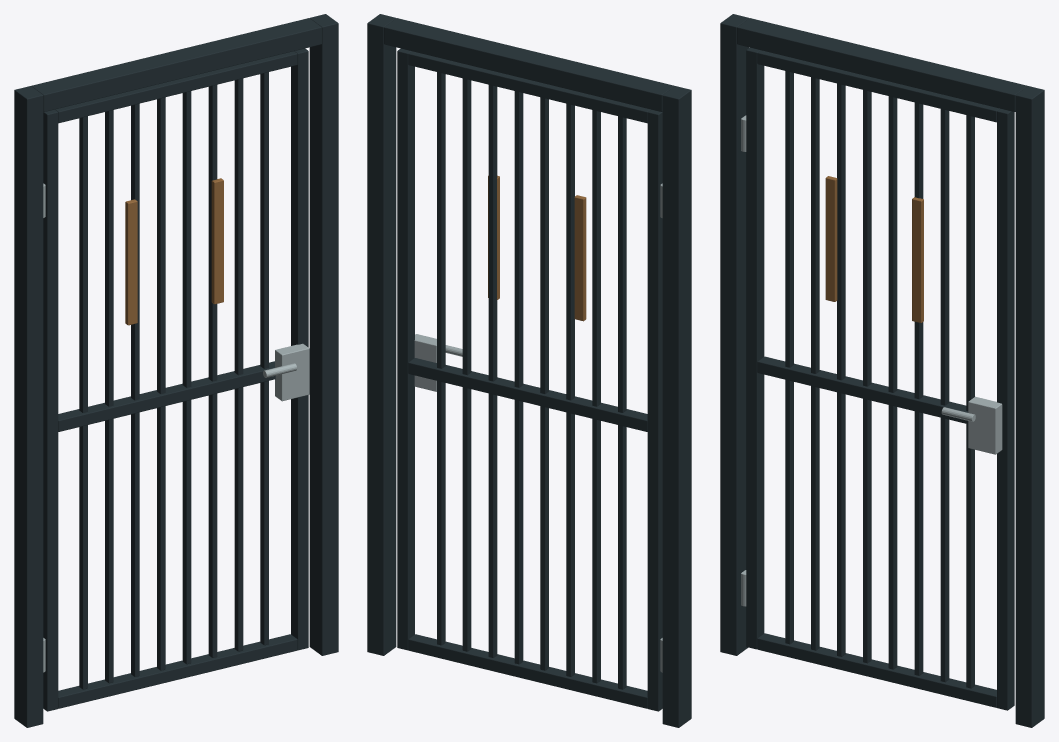
The picture shows the model from 3 angles, left to right: view 1: azimuth 30°, elevation 25°; view 2: azimuth 150°, elevation 25°; view 3: azimuth 330°, elevation 25°; orthographic projection.
Parts seen in each view (by area): view 1: FRAME_Jamb, FRAME_Jamb.001, LEAF_Stile.001, LEAF_Stile, FRAME_Header, LEAF_VerticalBar_07, LEAF_VerticalBar_05, LEAF_VerticalBar_04, LEAF_VerticalBar_01, LEAF_VerticalBar_02, LEAF_VerticalBar_08, LEAF_VerticalBar_06 (+7 smaller); view 2: FRAME_Jamb, FRAME_Jamb.001, LEAF_Stile.001, LEAF_Stile, FRAME_Header, LEAF_VerticalBar_07, LEAF_VerticalBar_05, LEAF_VerticalBar_06, LEAF_VerticalBar_04, LEAF_VerticalBar_03, LEAF_VerticalBar_01, LEAF_VerticalBar_02 (+6 smaller); view 3: FRAME_Jamb.001, FRAME_Jamb, LEAF_Stile, LEAF_Stile.001, FRAME_Header, LEAF_VerticalBar_05, LEAF_VerticalBar_07, LEAF_VerticalBar_01, LEAF_VerticalBar_02, LEAF_VerticalBar_03, LEAF_VerticalBar_04, LEAF_VerticalBar_08 (+7 smaller).
Boxes of the visible parts, x1=… form: FRAME_Jamb: x1=14, y1=86, x2=43, y2=727; FRAME_Jamb.001: x1=309, y1=14, x2=338, y2=655; LEAF_Stile.001: x1=291, y1=48, x2=308, y2=650; LEAF_Stile: x1=43, y1=109, x2=58, y2=711; FRAME_Header: x1=31, y1=18, x2=321, y2=111; LEAF_VerticalBar_07: x1=234, y1=78, x2=243, y2=651; LEAF_VerticalBar_05: x1=182, y1=91, x2=191, y2=664; LEAF_VerticalBar_04: x1=157, y1=97, x2=165, y2=670; LEAF_VerticalBar_01: x1=79, y1=116, x2=87, y2=689; LEAF_VerticalBar_02: x1=105, y1=110, x2=113, y2=683; LEAF_VerticalBar_08: x1=260, y1=72, x2=268, y2=645; LEAF_VerticalBar_06: x1=208, y1=85, x2=217, y2=657; FRAME_Jamb: x1=662, y1=86, x2=691, y2=727; FRAME_Jamb.001: x1=367, y1=14, x2=396, y2=655; LEAF_Stile.001: x1=397, y1=48, x2=414, y2=650; LEAF_Stile: x1=647, y1=109, x2=662, y2=711; FRAME_Header: x1=384, y1=18, x2=674, y2=111; LEAF_VerticalBar_07: x1=462, y1=78, x2=471, y2=651; LEAF_VerticalBar_05: x1=514, y1=91, x2=523, y2=664; LEAF_VerticalBar_06: x1=488, y1=85, x2=497, y2=657; LEAF_VerticalBar_04: x1=540, y1=97, x2=548, y2=670; LEAF_VerticalBar_03: x1=566, y1=103, x2=574, y2=676; LEAF_VerticalBar_01: x1=618, y1=116, x2=626, y2=689; LEAF_VerticalBar_02: x1=592, y1=110, x2=600, y2=683; FRAME_Jamb.001: x1=1015, y1=86, x2=1044, y2=727; FRAME_Jamb: x1=720, y1=14, x2=749, y2=655; LEAF_Stile: x1=746, y1=47, x2=764, y2=649; LEAF_Stile.001: x1=997, y1=108, x2=1014, y2=710; FRAME_Header: x1=737, y1=18, x2=1027, y2=111; LEAF_VerticalBar_05: x1=888, y1=96, x2=897, y2=669; LEAF_VerticalBar_07: x1=940, y1=109, x2=949, y2=682; LEAF_VerticalBar_01: x1=785, y1=71, x2=793, y2=644; LEAF_VerticalBar_02: x1=811, y1=77, x2=819, y2=650; LEAF_VerticalBar_03: x1=837, y1=83, x2=845, y2=656; LEAF_VerticalBar_04: x1=863, y1=90, x2=871, y2=663; LEAF_VerticalBar_08: x1=966, y1=115, x2=974, y2=688.
Size of the model in its own units: 1.12 by 2.16 by 0.137.
